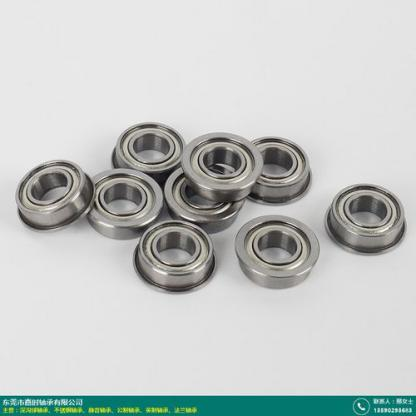FOD: (232, 210, 321, 291), (13, 154, 96, 235), (178, 127, 265, 204), (324, 181, 410, 257), (83, 164, 166, 241), (132, 222, 219, 292), (163, 161, 241, 237), (110, 116, 188, 183), (249, 132, 314, 206)
